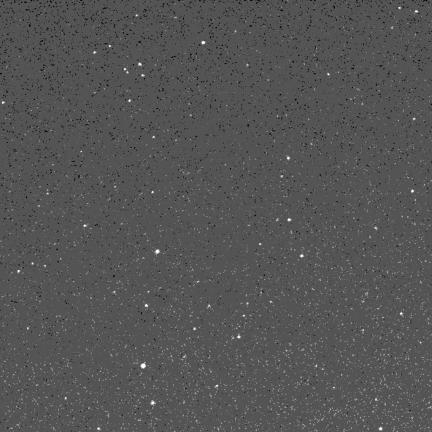blob: (155, 249, 161, 255), (141, 363, 145, 368), (411, 189, 415, 194), (300, 254, 305, 258), (151, 401, 155, 405), (201, 41, 205, 45), (281, 175, 284, 179), (129, 99, 132, 103), (400, 313, 404, 316), (138, 63, 142, 66), (142, 74, 146, 77), (194, 327, 197, 331), (17, 270, 21, 273), (415, 10, 418, 13), (379, 427, 382, 430), (65, 397, 68, 400), (94, 51, 97, 54), (237, 335, 240, 338), (145, 304, 148, 307), (124, 68, 127, 71), (153, 136, 156, 139), (259, 243, 262, 246), (287, 157, 290, 160), (327, 73, 330, 76), (413, 118, 416, 121), (32, 262, 34, 265), (152, 191, 154, 194), (288, 219, 291, 221)
